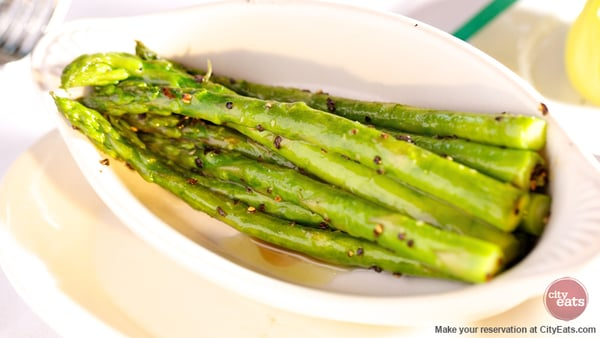sushi: (25, 35, 548, 285)
